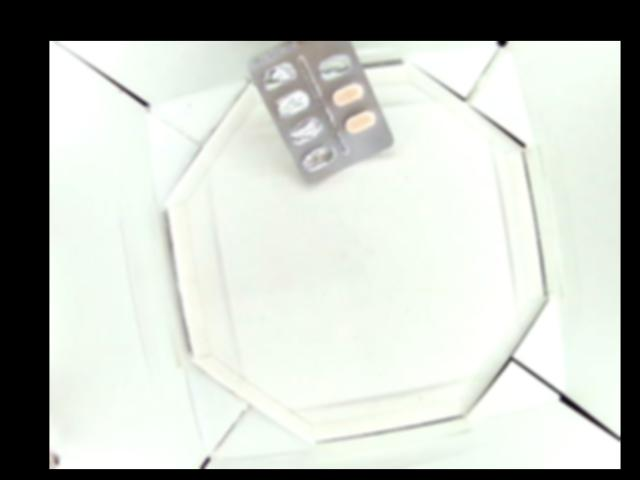Medicine: (239, 41, 396, 187)
